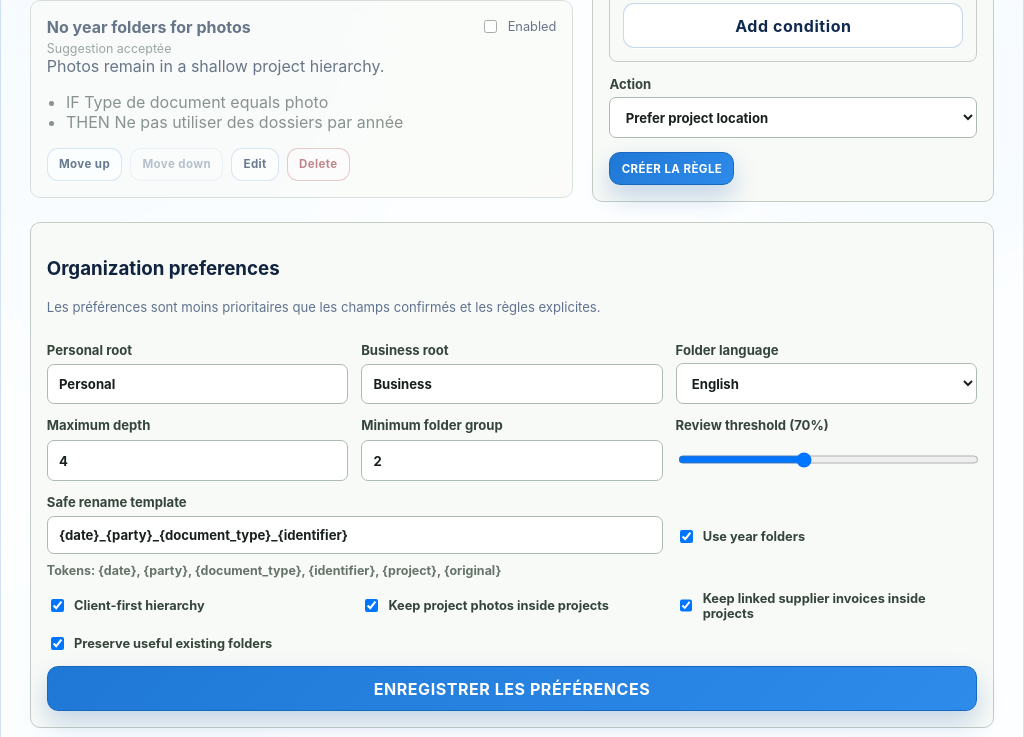
Test: Milestone 11 local rules and preferences UI › stores complete local preferences and explicitly recomputes the preview
(page scrolled)
Replace the text in the field labelled "Personal root" with "Private" at (198, 384), box x1=47 y1=364 x2=348 y2=404
Replace the text in the field labelled "Business root" with "Company" at (512, 384), box x1=361 y1=364 x2=663 y2=404
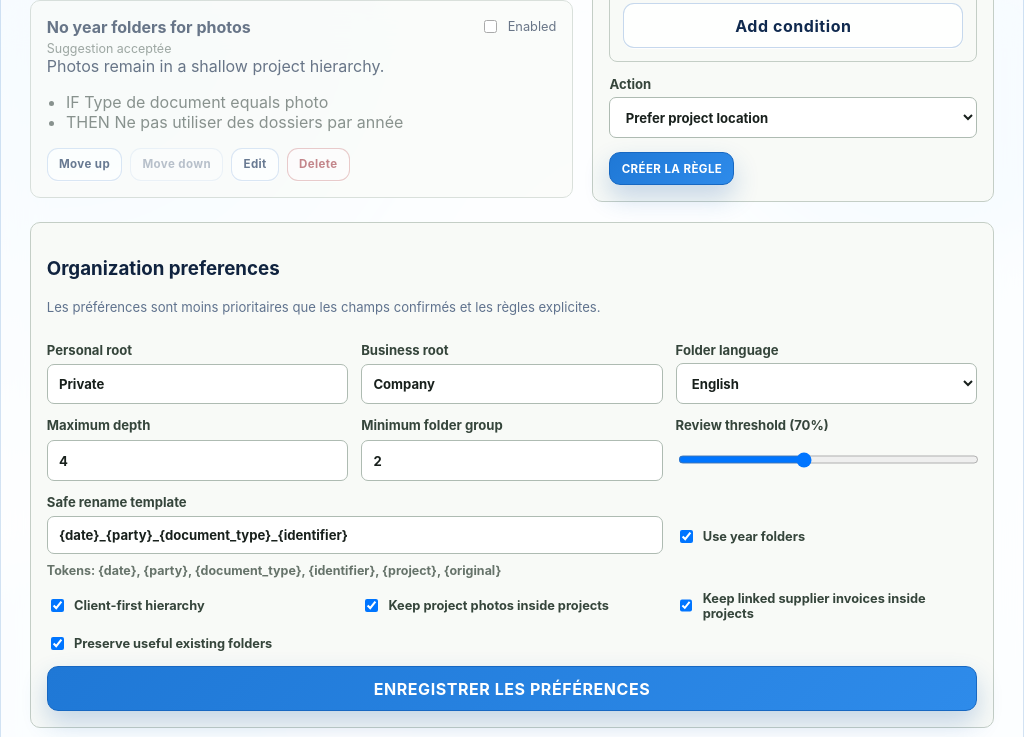
Select "Français" in the dropdown labelled "Folder language" at (826, 384), box x1=676 y1=363 x2=977 y2=404
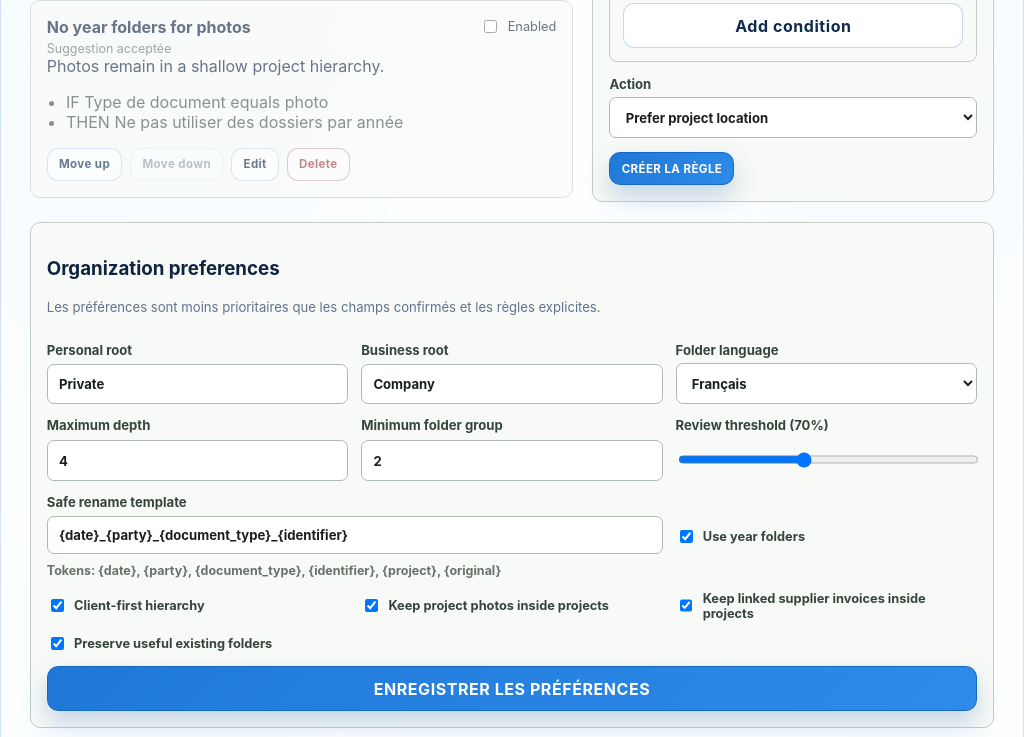
Replace the text in the number field labelled "Maximum depth" with "5" at (198, 461), box x1=47 y1=440 x2=348 y2=481
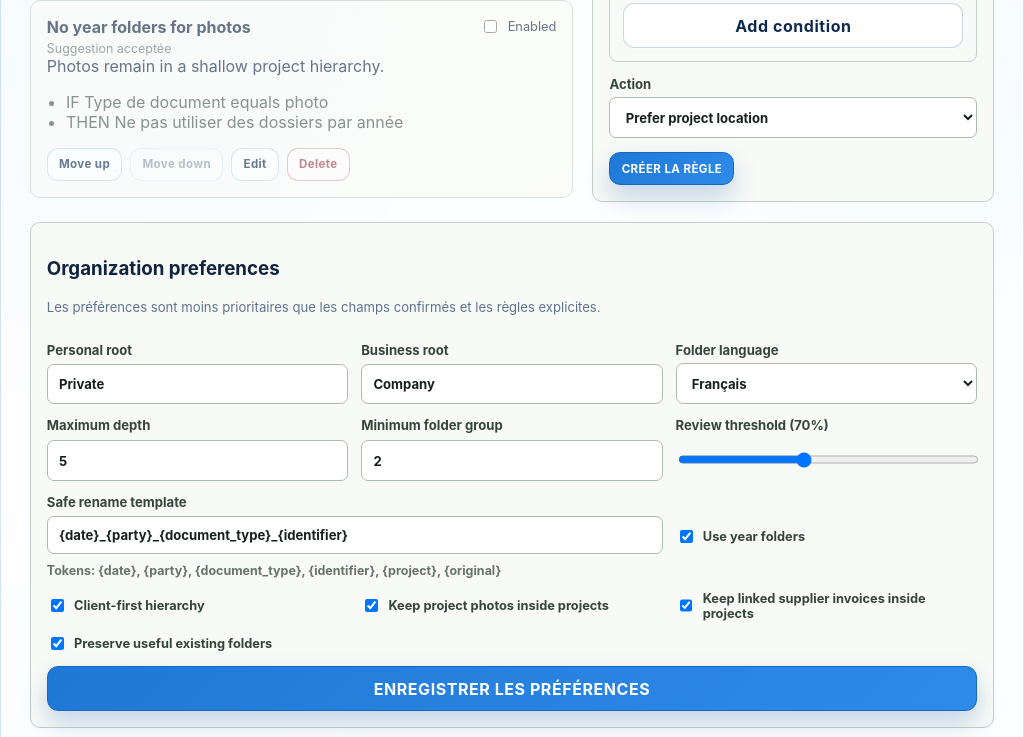
Set the slider labelled "Review threshold (70%)" to "0.82" at (872, 460), box x1=678 y1=440 x2=979 y2=479
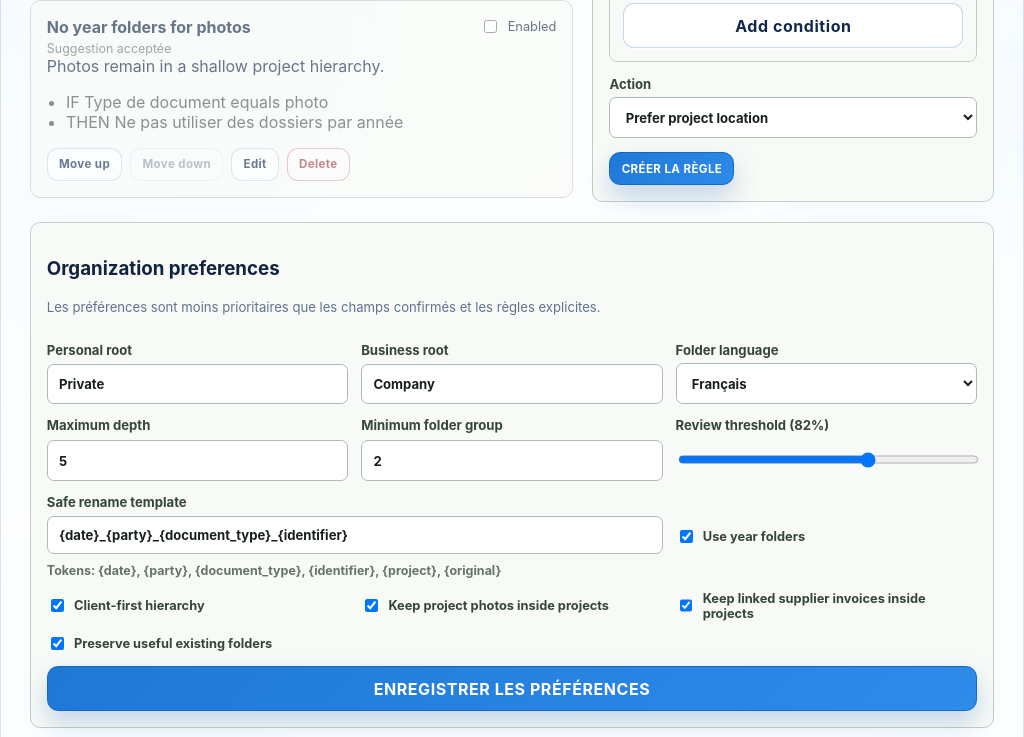
Click the button "ENREGISTRER LES PRÉFÉRENCES" at (512, 689), box x1=47 y1=666 x2=977 y2=711
(page scrolled)
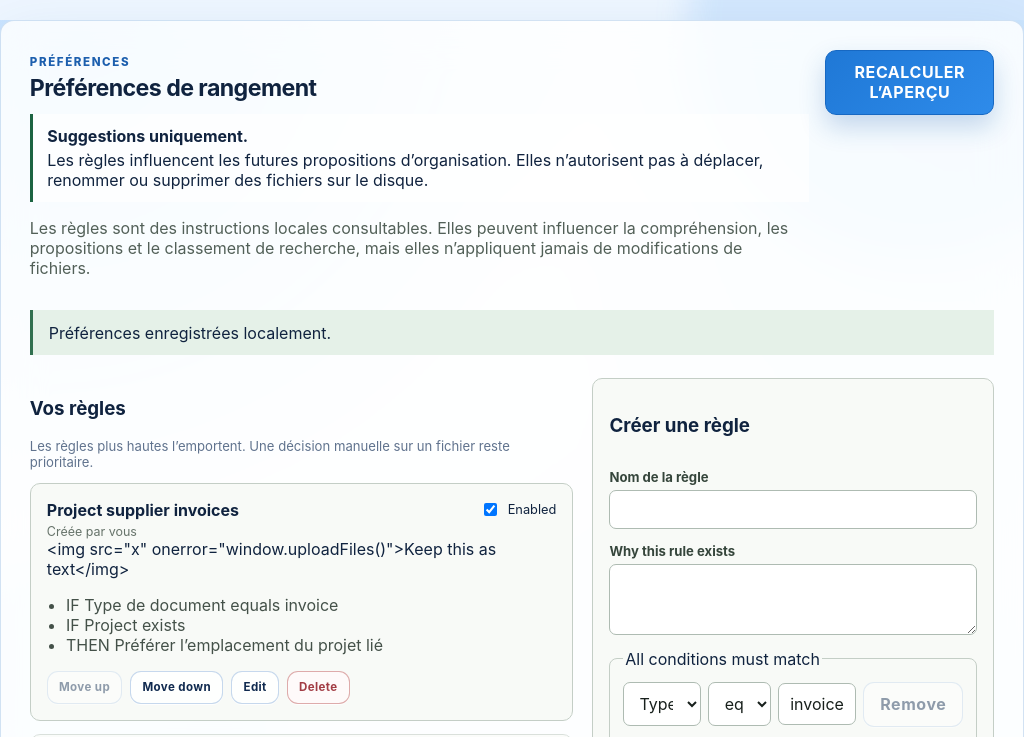
Click the button "RECALCULER L’APERÇU" at (910, 82), box x1=826 y1=50 x2=994 y2=115
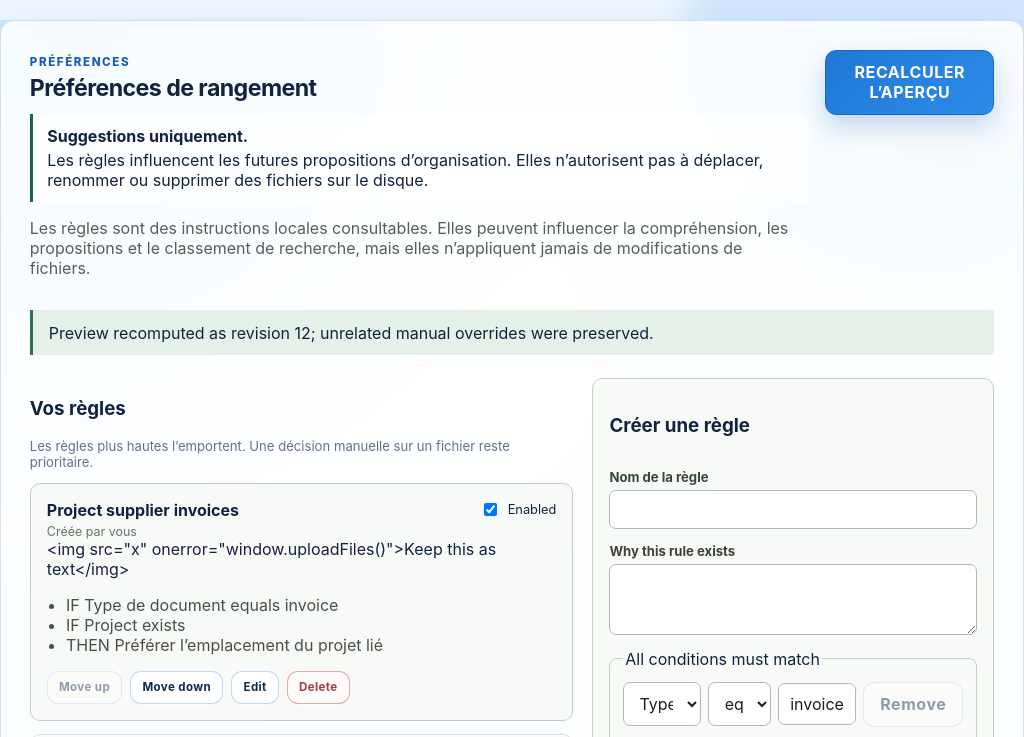
Check: the text "Preview recomputed as revision 12; unrelated manual overrides were preserved." is shown, box x1=30 y1=310 x2=994 y2=355
